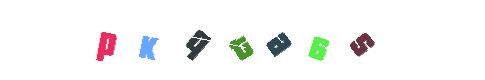6: (235, 0, 315, 80)
A: (222, 0, 302, 80)
K: (107, 0, 187, 80)
P: (66, 0, 146, 80)
Q: (201, 0, 281, 80)
S: (278, 0, 358, 80)
T: (203, 0, 283, 80)
